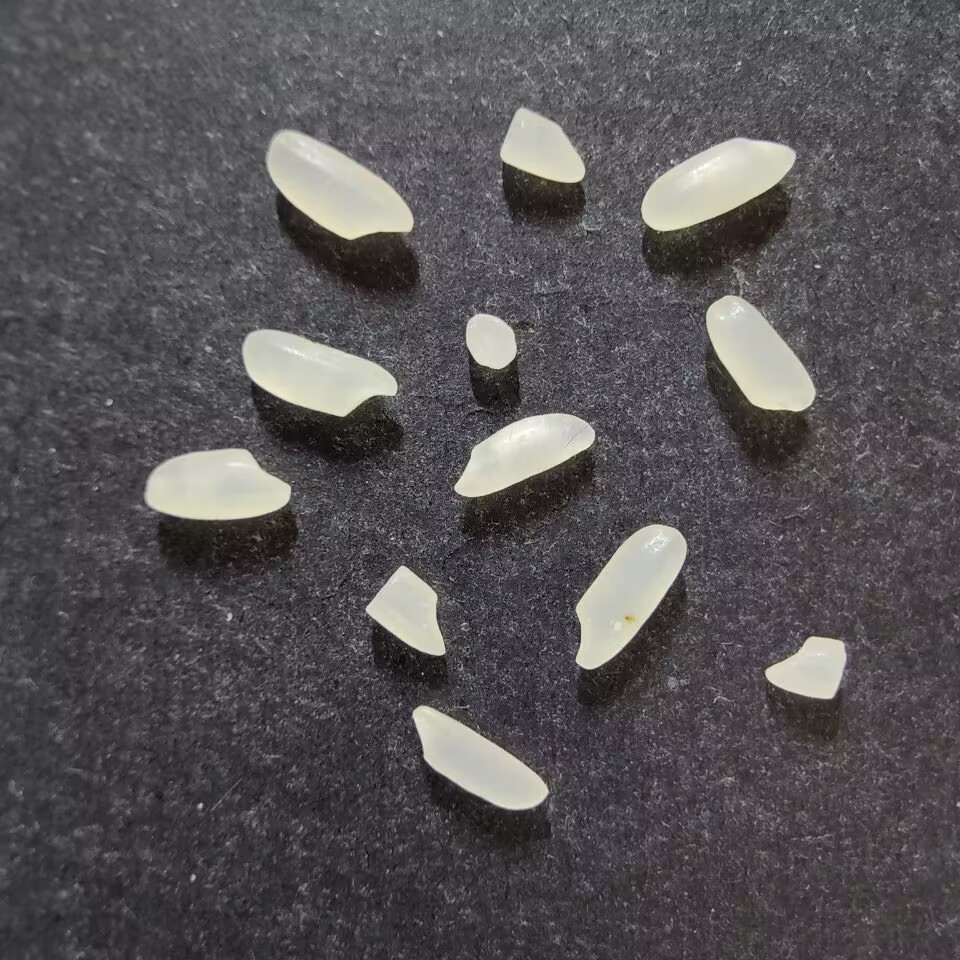broken: (364, 564, 447, 657), (498, 106, 586, 184), (763, 635, 847, 699), (464, 312, 518, 369)
rice: (573, 523, 688, 670), (265, 130, 414, 241), (410, 703, 550, 810), (640, 136, 796, 232), (242, 328, 397, 417), (705, 294, 816, 412), (452, 412, 595, 498), (144, 448, 291, 520)
